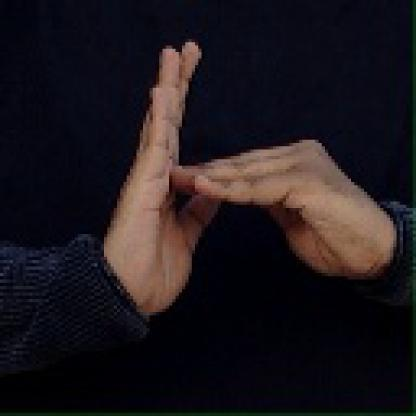Z: (96, 34, 370, 306)
